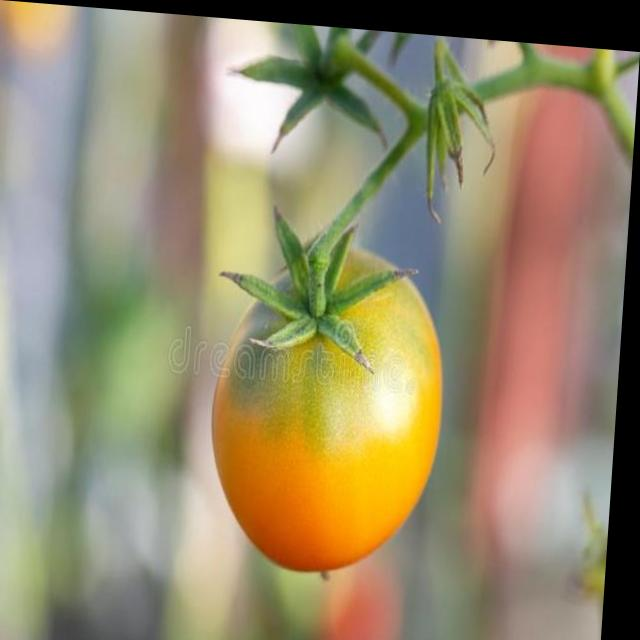sari: (190, 198, 490, 608)
